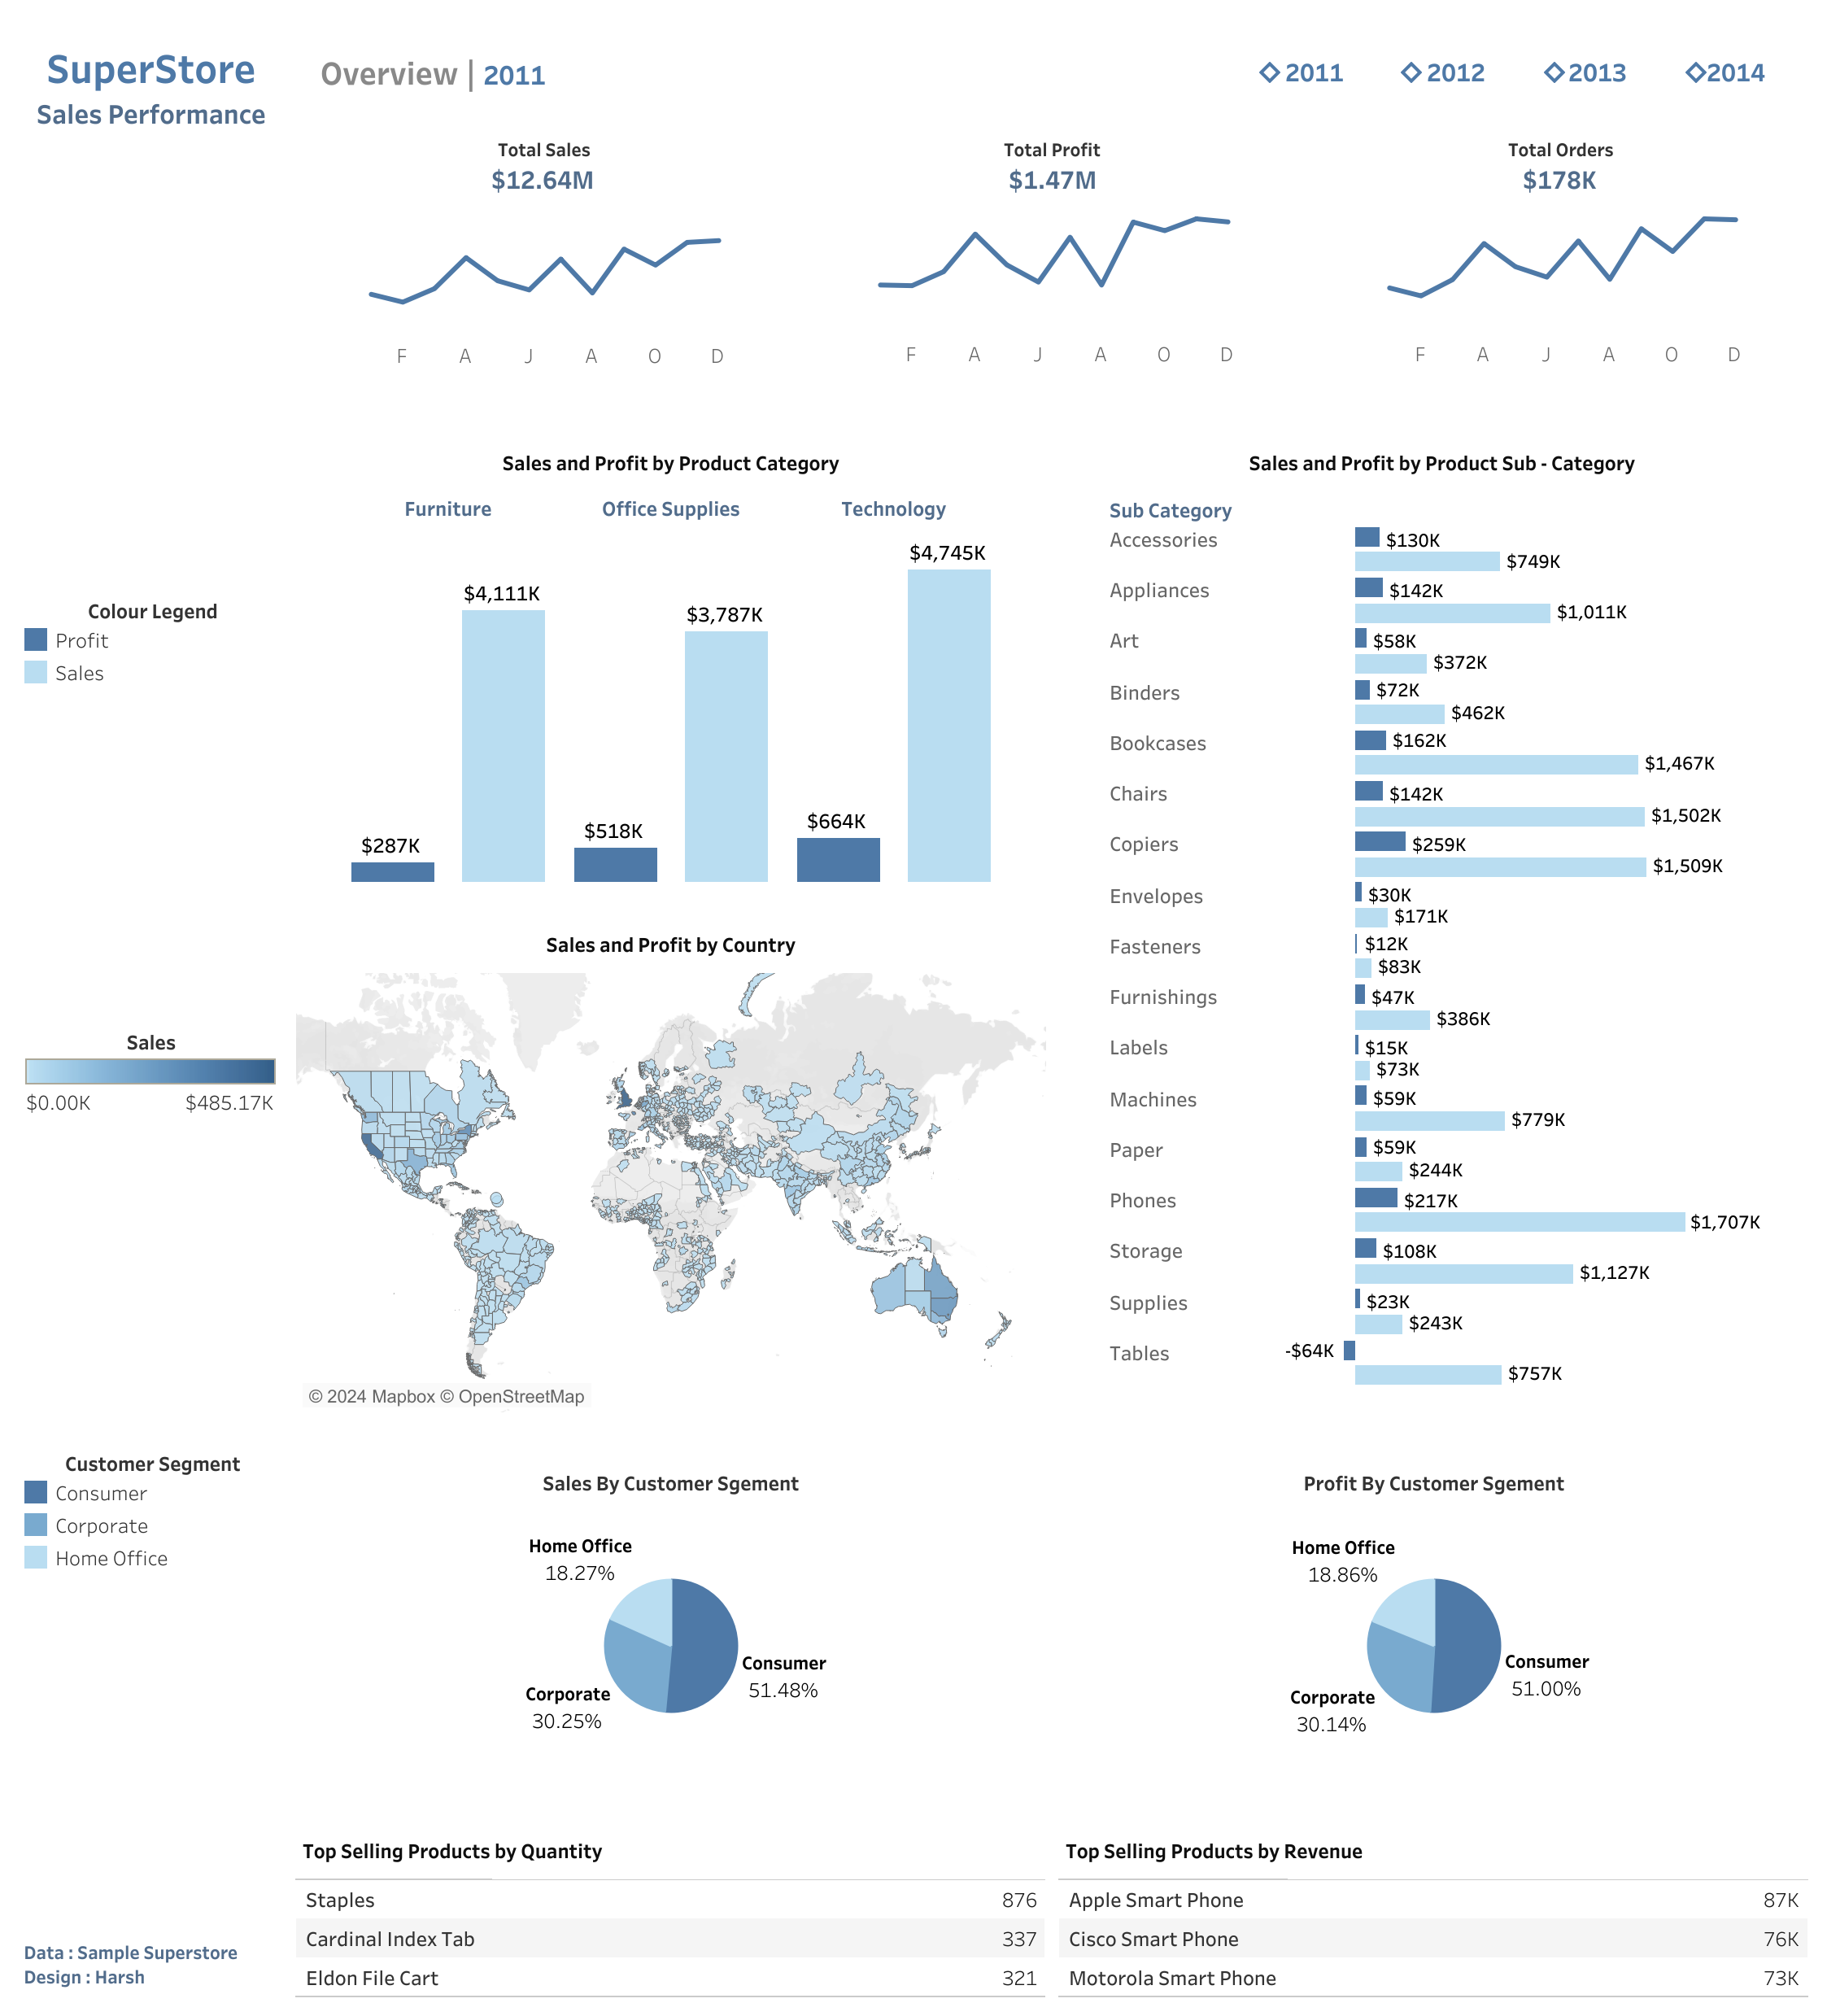

The dashboard page shown, as its layout file describes it:
{"tool":"tableau","page":{"name":"Comprehensive Sales Performance Dashboard (2)","canvas":[1000,1000],"units":"permille","ordinal":0},"visuals":[{"type":"text","box":[7.1,6.5,151.2,71]},{"type":"text","box":[158.3,6.5,494,58.1]},{"type":"worksheet","title":"select year","mark":"Shape","rows":["Calculation_118993590258487297"],"cols":["year"],"box":[652.3,6.5,340.5,58.1]},{"type":"worksheet","title":"Total Sales KPI","mark":"Automatic","box":[158.4,64.5,278.5,46]},{"type":"worksheet","title":"Total Profit KPI","mark":"Automatic","box":[436.8,64.5,278.5,35.9]},{"type":"worksheet","title":"Total Orders KPI","mark":"Automatic","box":[715.3,64.5,277.6,36.2]},{"type":"blank","box":[7.1,77.4,151.2,71]},{"type":"worksheet","title":"Total Profit Graph","mark":"Line","rows":["profit"],"cols":["month_name"],"box":[436.8,100.4,278.5,101.2]},{"type":"worksheet","title":"Total Orders Graph","mark":"Line","rows":["quantity"],"cols":["month_name"],"box":[715.3,100.7,277.6,100.9]},{"type":"worksheet","title":"Total Sales Graph","mark":"Line","rows":["sales"],"cols":["month_name"],"box":[158.4,112.1,278.5,89.5]},{"type":"blank","box":[7.1,148.4,151.2,71]},{"type":"worksheet","title":"S/P by Category Graph","mark":"Automatic","cols":["category"],"box":[158.3,201.6,417.3,250.8]},{"type":"worksheet","title":"S/P by Sub - Category Graph","mark":"Automatic","rows":["sub_category"],"box":[575.6,201.6,417.3,501.6]},{"type":"blank","box":[7.1,219.3,151.2,71]},{"type":"legend","title":"S/P by Category Graph","param":"[federated.0su2ppl0yxgibh1fmit7y15s8z5z].[:Measure Names]","box":[7.1,290.3,151.2,71]},{"type":"blank","box":[7.1,361.3,151.2,71]},{"type":"blank","box":[7.1,432.3,151.2,70.2]},{"type":"worksheet","title":"S/P by Country","mark":"Automatic","box":[158.3,452.4,417.3,250.8]},{"type":"legend","title":"S/P by Country","param":"[federated.0su2ppl0yxgibh1fmit7y15s8z5z].[sum:sales:qk]","box":[7.1,502.4,151.2,70.2]},{"type":"blank","box":[7.1,572.6,151.2,70.2]},{"type":"blank","box":[7.1,642.7,151.2,70.2]},{"type":"worksheet","title":"Sales by C S","mark":"Pie","box":[158.3,703.2,417.3,198.4]},{"type":"worksheet","title":"Profit by C S ","mark":"Pie","box":[575.6,703.2,417.3,198.4]},{"type":"legend","title":"Sales by C S","param":"[federated.0su2ppl0yxgibh1fmit7y15s8z5z].[none:segment:nk]","box":[7.1,712.9,151.2,70.2]},{"type":"blank","box":[7.1,783.1,151.2,70.2]},{"type":"blank","box":[7.1,853.2,151.2,70.2]},{"type":"worksheet","title":"Top Sellers ","mark":"Automatic","rows":["product_name"],"box":[158.3,901.6,417.3,91.9]},{"type":"worksheet","title":"Top Sellers (2)","mark":"Automatic","rows":["product_name"],"box":[575.6,901.6,417.3,91.9]},{"type":"text","box":[7.1,923.4,151.2,70.2]}]}

Visuals, with their boxes on the dashboard's canvas, which has no fixed pixel size, in thousandths of its width and height (x1, y1, x2, y2). These are canvas units, not pixel positions in the 1827x2016 screenshot, which may show the page scaled, cropped or inside an application window:
text: region(7, 6, 158, 78)
text: region(158, 6, 652, 65)
"select year" worksheet (Shape marks): region(652, 6, 993, 65)
"Total Sales KPI" worksheet: region(158, 64, 437, 110)
"Total Profit KPI" worksheet: region(437, 64, 715, 100)
"Total Orders KPI" worksheet: region(715, 64, 993, 101)
blank: region(7, 77, 158, 148)
"Total Profit Graph" worksheet (Line marks): region(437, 100, 715, 202)
"Total Orders Graph" worksheet (Line marks): region(715, 101, 993, 202)
"Total Sales Graph" worksheet (Line marks): region(158, 112, 437, 202)
blank: region(7, 148, 158, 219)
"S/P by Category Graph" worksheet: region(158, 202, 576, 452)
"S/P by Sub - Category Graph" worksheet: region(576, 202, 993, 703)
blank: region(7, 219, 158, 290)
"S/P by Category Graph" legend: region(7, 290, 158, 361)
blank: region(7, 361, 158, 432)
blank: region(7, 432, 158, 502)
"S/P by Country" worksheet: region(158, 452, 576, 703)
"S/P by Country" legend: region(7, 502, 158, 573)
blank: region(7, 573, 158, 643)
blank: region(7, 643, 158, 713)
"Sales by C S" worksheet (Pie marks): region(158, 703, 576, 902)
"Profit by C S " worksheet (Pie marks): region(576, 703, 993, 902)
"Sales by C S" legend: region(7, 713, 158, 783)
blank: region(7, 783, 158, 853)
blank: region(7, 853, 158, 923)
"Top Sellers " worksheet: region(158, 902, 576, 994)
"Top Sellers (2)" worksheet: region(576, 902, 993, 994)
text: region(7, 923, 158, 994)
